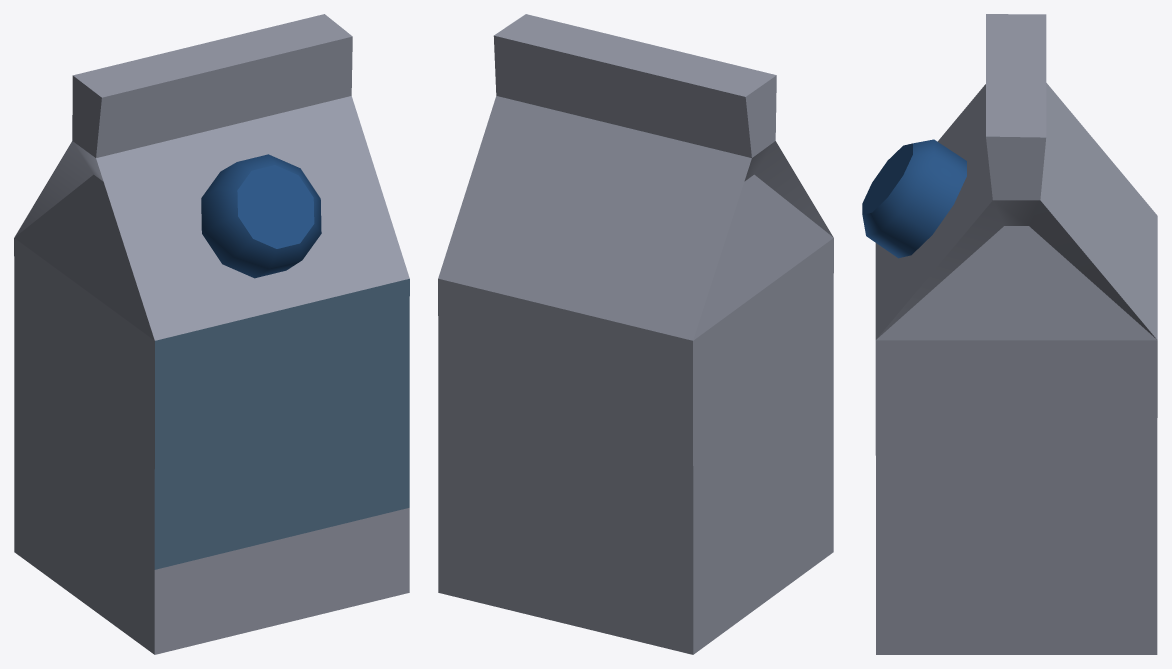
File: food_milk_packet_01.fbx
The picture shows the model from 3 angles, left to right: view 1: azimuth 30°, elevation 25°; view 2: azimuth 150°, elevation 25°; view 3: azimuth 270°, elevation 25°; orthographic projection.
Visible parts, largest first — view 1: food_milk_packet_01; view 2: food_milk_packet_01; view 3: food_milk_packet_01.
Boxes of the visible parts, <box> form: food_milk_packet_01: <box>14,14,409,654</box>; food_milk_packet_01: <box>438,14,833,654</box>; food_milk_packet_01: <box>862,14,1157,654</box>.
Bounding box in the file's own units: 23.87 × 46.1 × 23.84.
